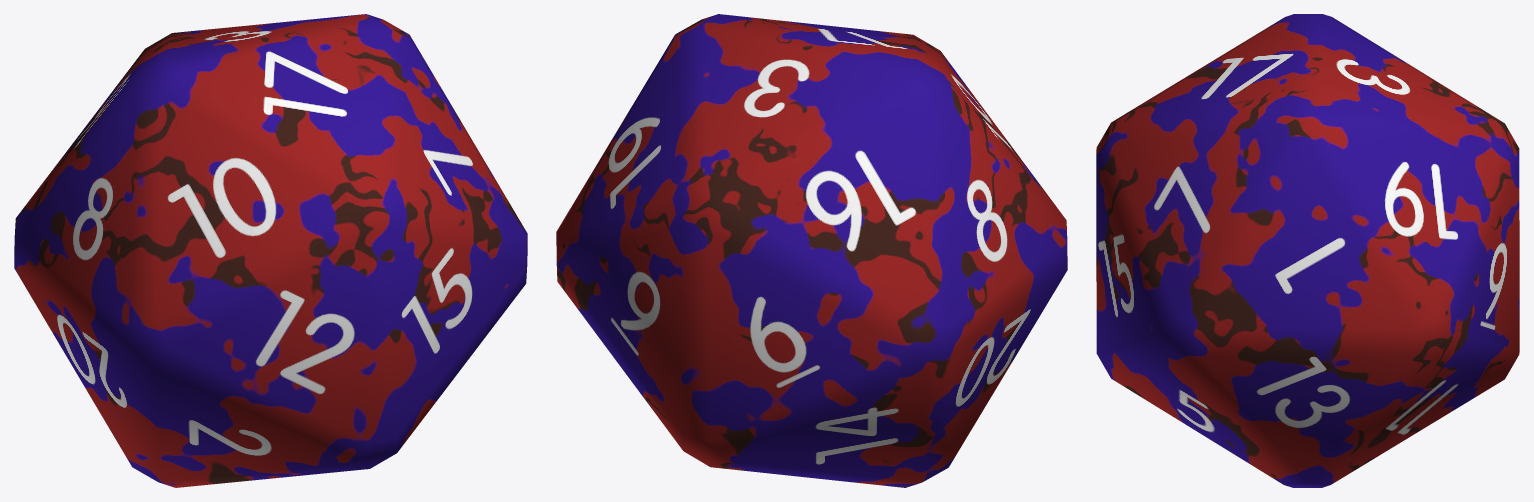
File: torg-d20.glb
The picture shows the model from 3 angles, left to right: view 1: azimuth 30°, elevation 25°; view 2: azimuth 150°, elevation 25°; view 3: azimuth 270°, elevation 25°; orthographic projection. The views are drawn at different scales.
Visible parts, largest first — view 1: d20final; view 2: d20final; view 3: d20final.
Boxes of the visible parts, left/top/right/bottom form: d20final: left=14, top=14, right=527, bottom=487; d20final: left=556, top=14, right=1067, bottom=487; d20final: left=1096, top=14, right=1519, bottom=487.
Size of the model in its own units: 167 by 167 by 166.
1 material, 1 textured.
